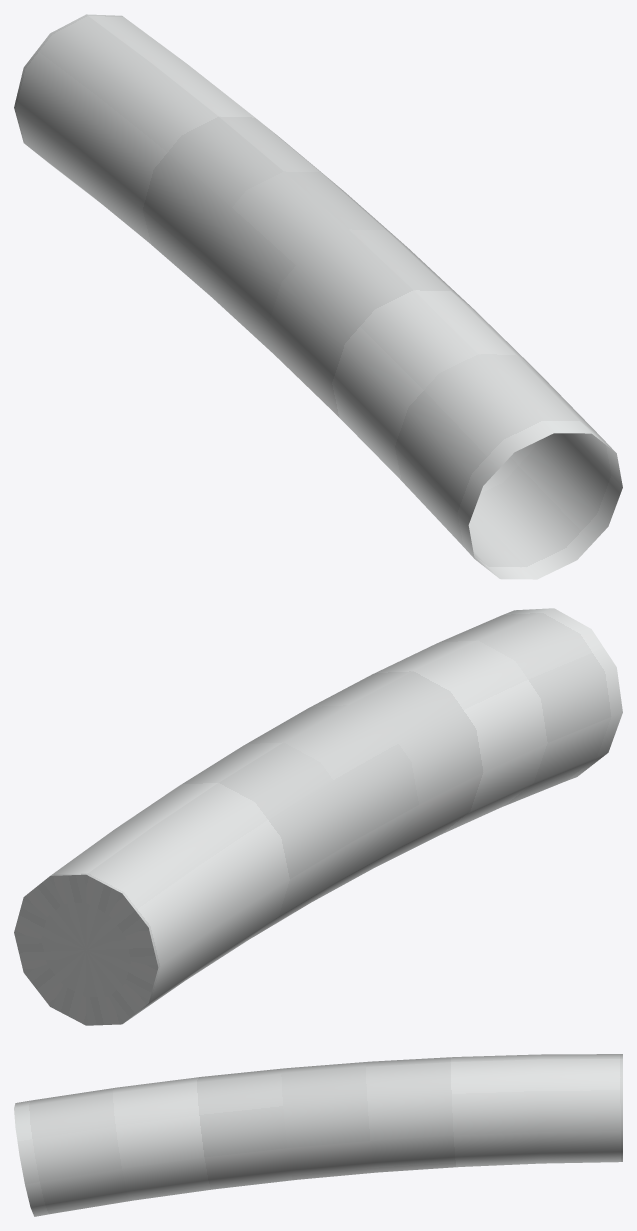
Rendered from luminairearm_vannuystriple_c11.obj.
3 views of the same model, one above another, from view 1: azimuth 30°, elevation 25°; view 2: azimuth 150°, elevation 25°; view 3: azimuth 270°, elevation 25° (orthographic). The views are drawn at different scales.
Visible parts, largest first — view 1: luminairearm_vannuystriple_c11; view 2: luminairearm_vannuystriple_c11; view 3: luminairearm_vannuystriple_c11.
Part boxes in pixels (x1=…): luminairearm_vannuystriple_c11: x1=14, y1=14, x2=622, y2=579; luminairearm_vannuystriple_c11: x1=14, y1=608, x2=622, y2=1025; luminairearm_vannuystriple_c11: x1=14, y1=1054, x2=622, y2=1216.
Size of the model in its own units: 0.1737 by 0.2525 by 0.9122.
